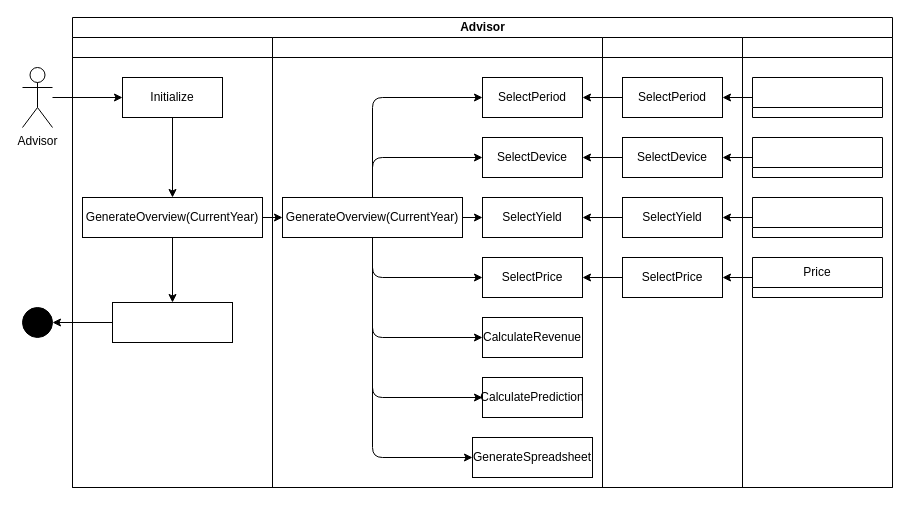
The diagram is 910 pixels wide and 505 high, and some of its shapes have lost their labels. Each missing label, with the box of its shape:
Business Logic: (272, 36, 602, 488)
Controller: (72, 36, 272, 488)
Device: (752, 136, 882, 178)
ExportSpreadsheet: (112, 302, 232, 342)
Model: (742, 36, 892, 488)
Period: (752, 76, 882, 118)
Repository: (602, 36, 742, 488)
Yield: (752, 196, 882, 238)
